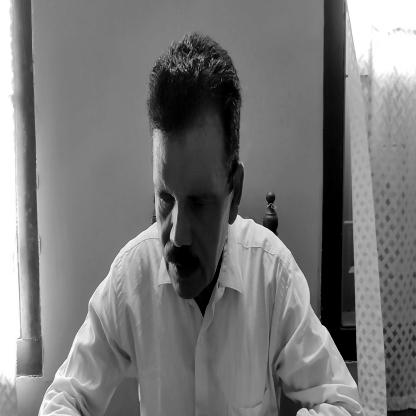Distracted: (151, 35, 244, 302)
